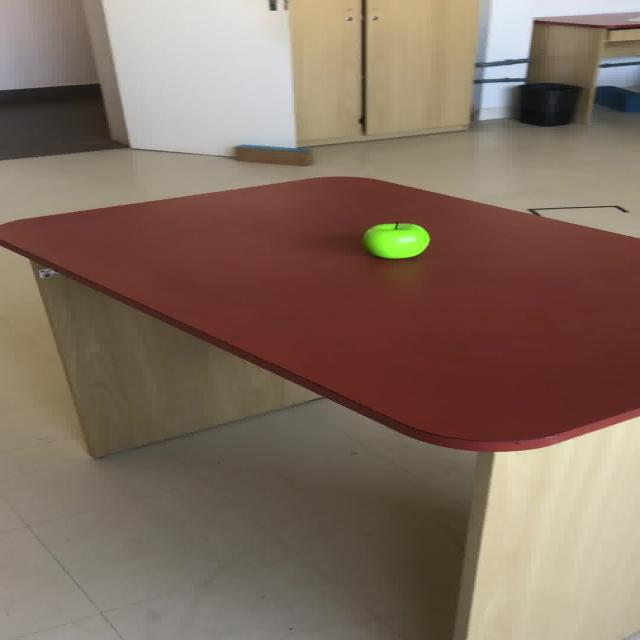apple: (361, 221, 430, 259)
